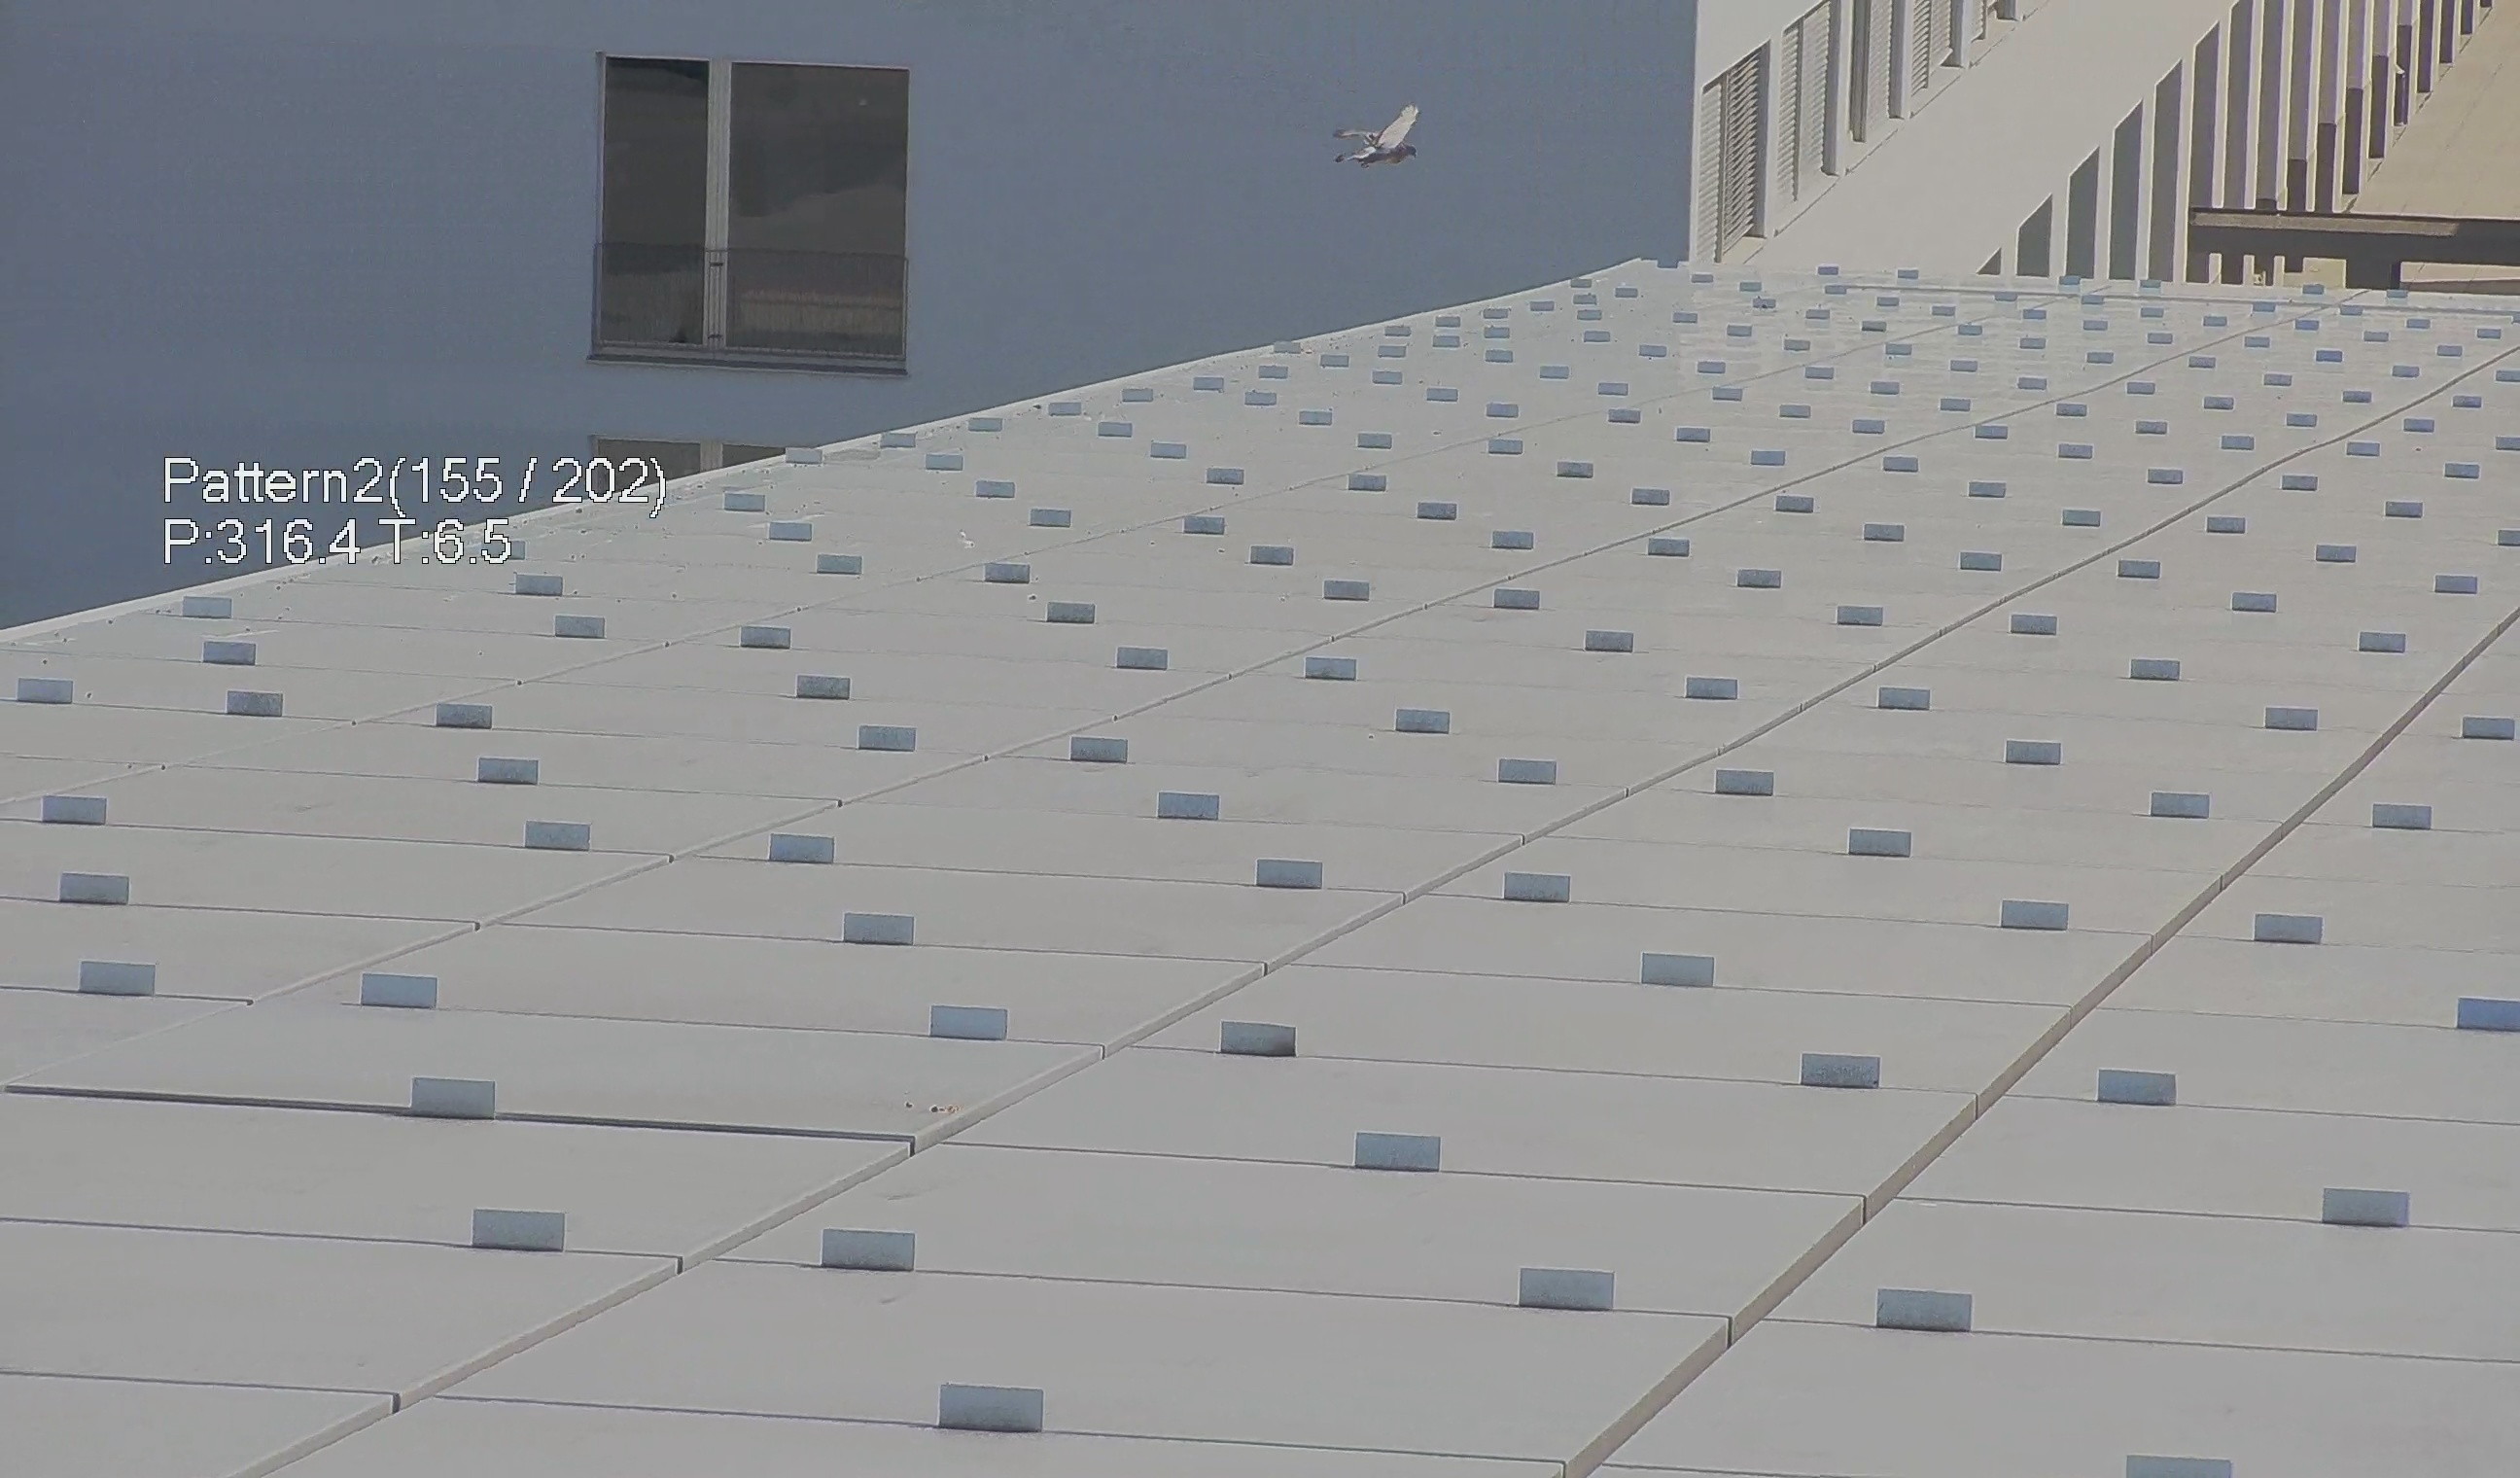Pigeon: (1324, 88, 1423, 169)
